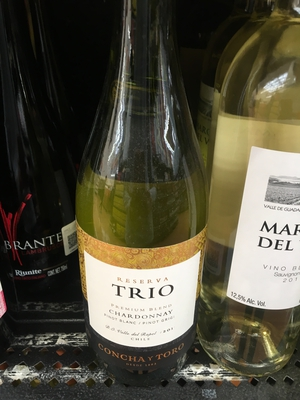trio chardonnay: (68, 16, 217, 380)
